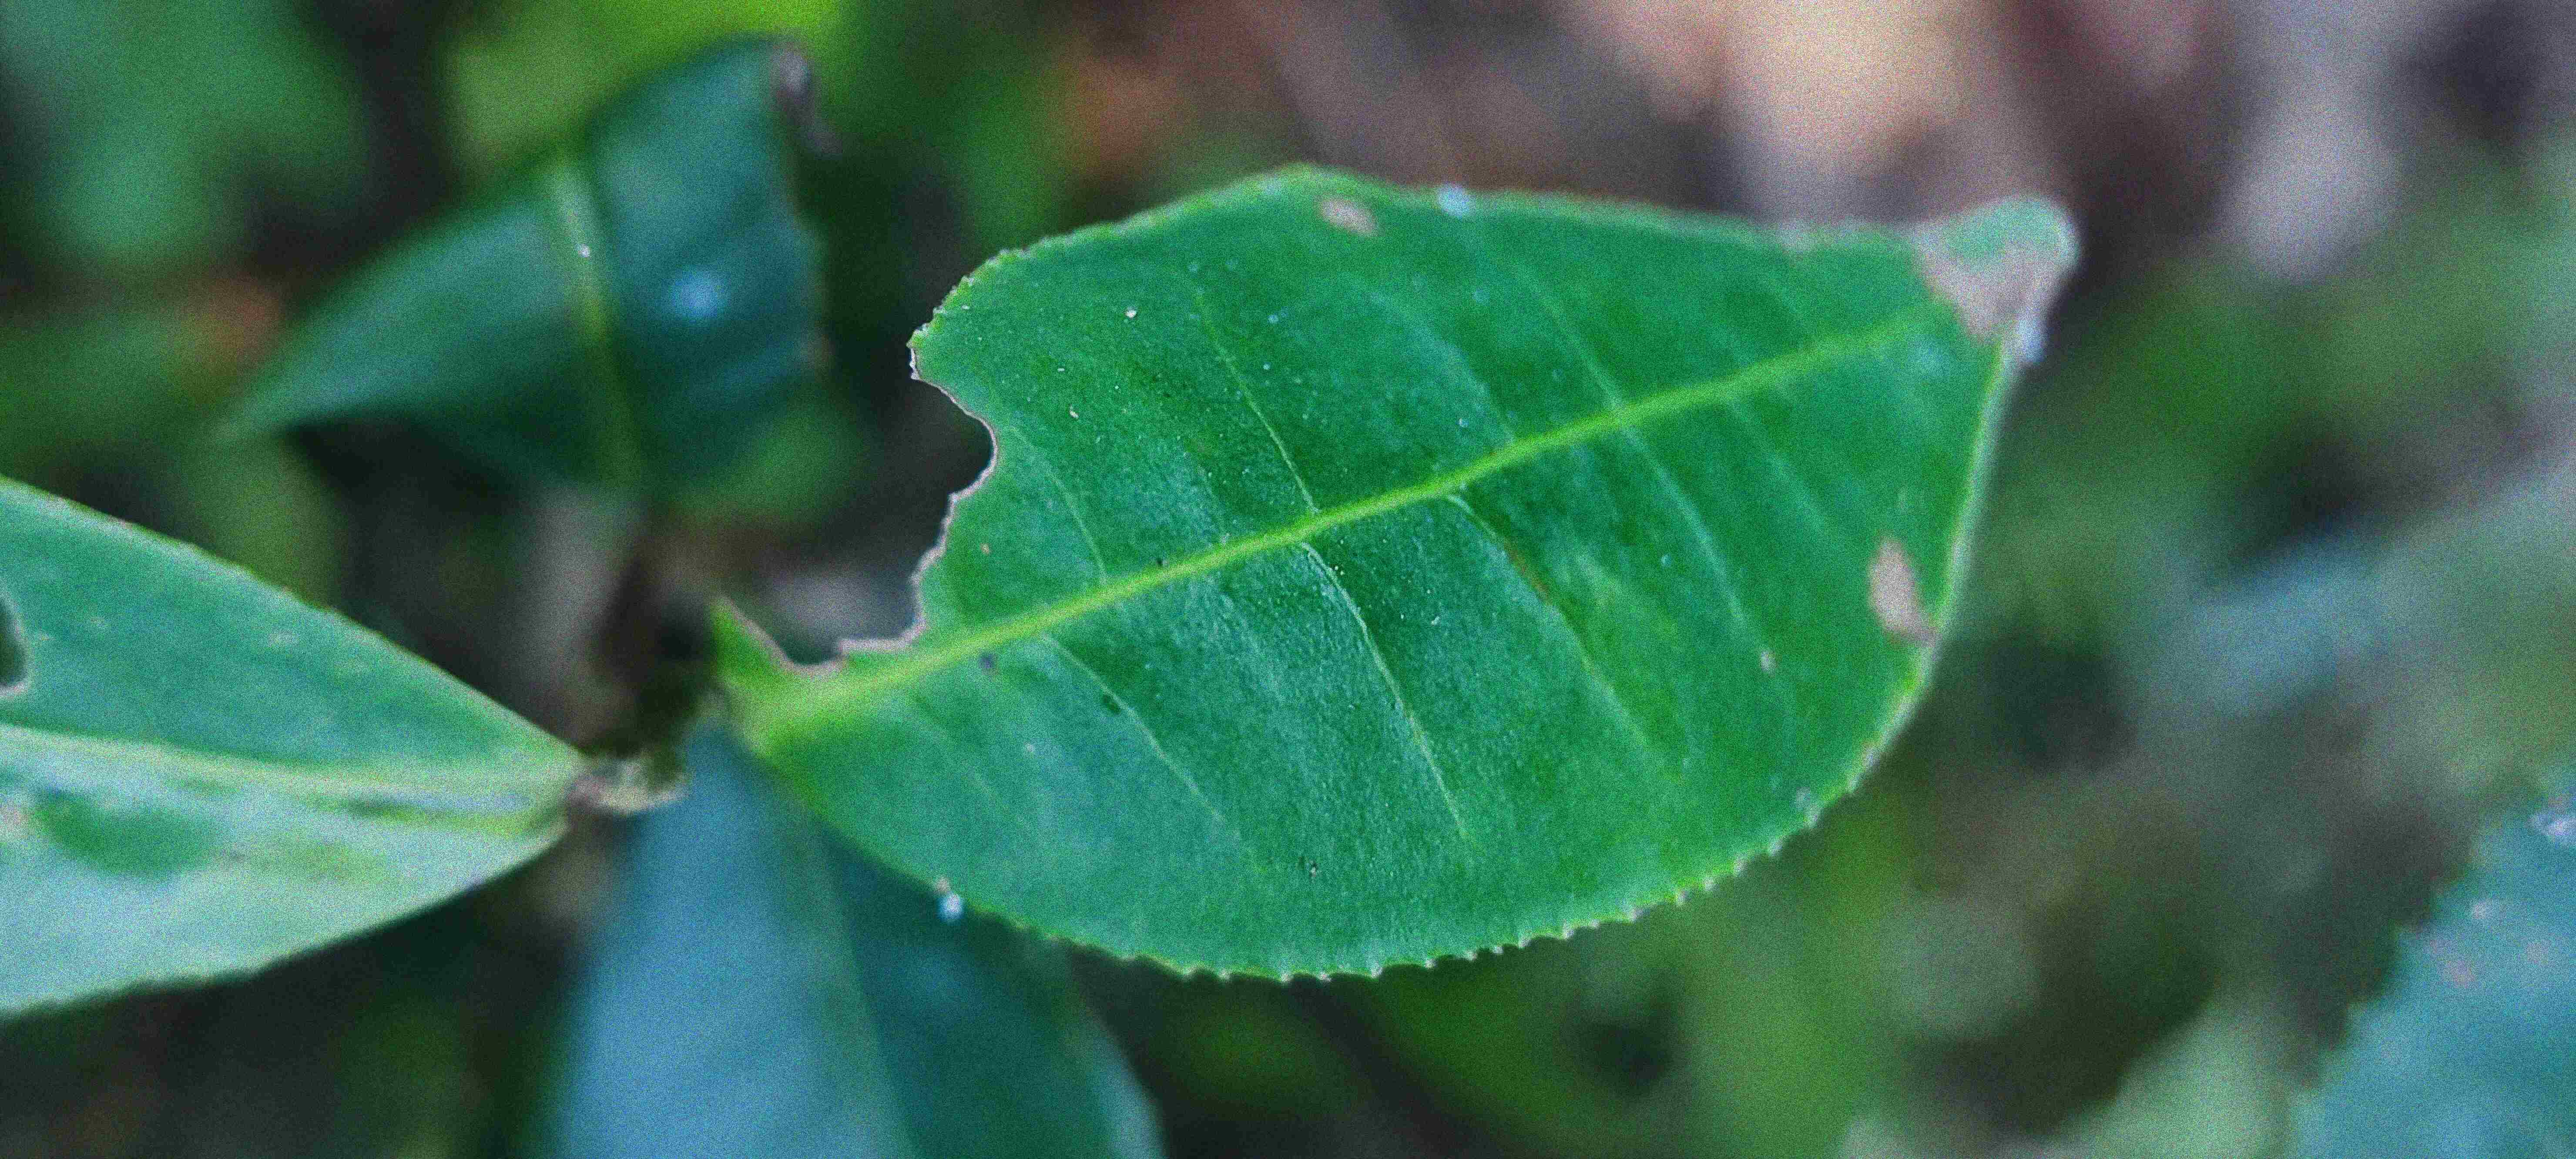chihuo_high: (703, 163, 2004, 977)
